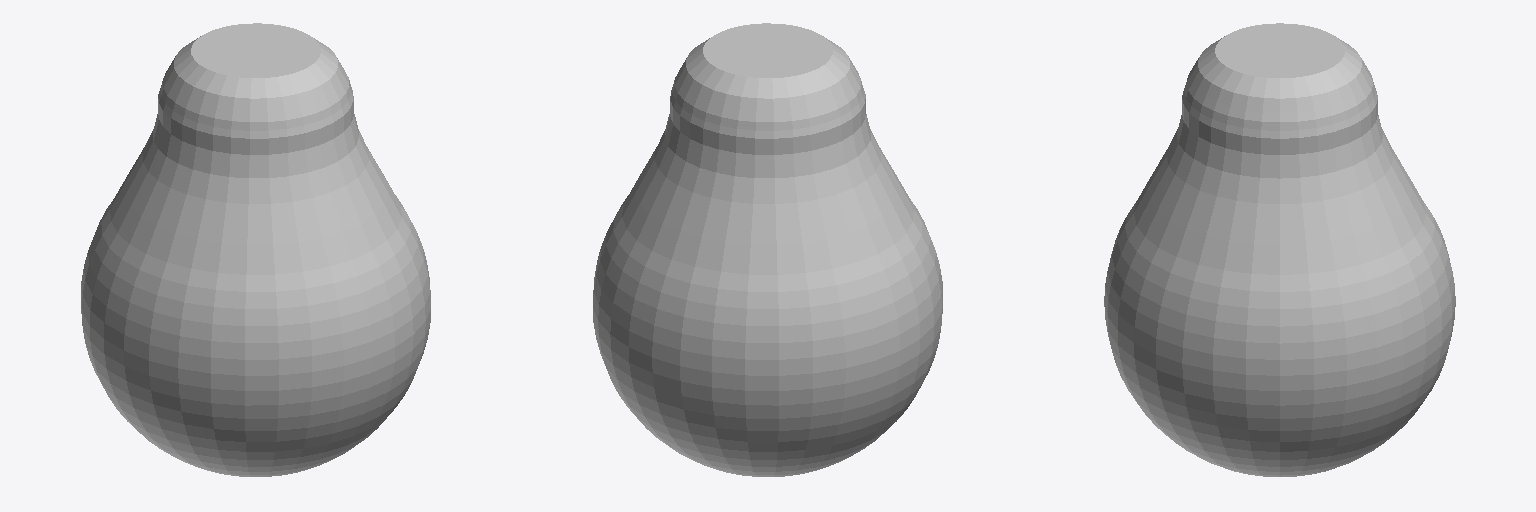
The model's file is lightbulb.obj.
The picture shows the model from 3 angles: view 1: azimuth 30°, elevation 25°; view 2: azimuth 150°, elevation 25°; view 3: azimuth 270°, elevation 25°; orthographic projection.
Visible parts, largest first — view 1: bulb; view 2: bulb; view 3: bulb.
Part boxes in pixels (bbox=[...]): bulb: bbox=[81, 23, 430, 476]; bulb: bbox=[593, 23, 942, 476]; bulb: bbox=[1104, 23, 1455, 476].
Bounding box in the file's own units: 1.32 × 1.7 × 1.32.